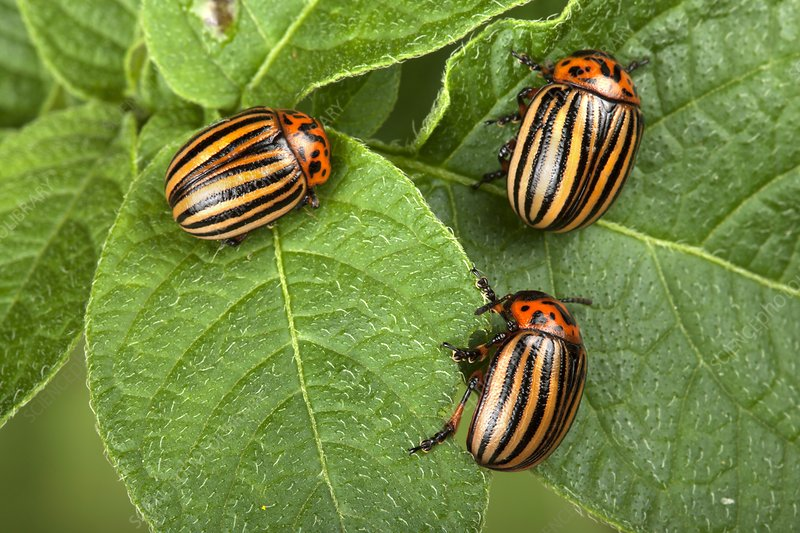Colorado Potato Beetle: (408, 264, 602, 476), (467, 46, 655, 240), (161, 100, 341, 254)
